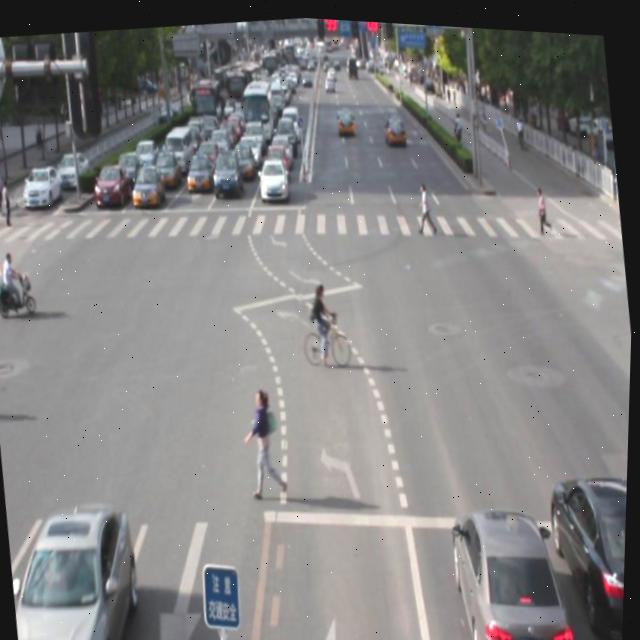car: (5, 489, 150, 640), (450, 495, 574, 640), (543, 463, 630, 637)
